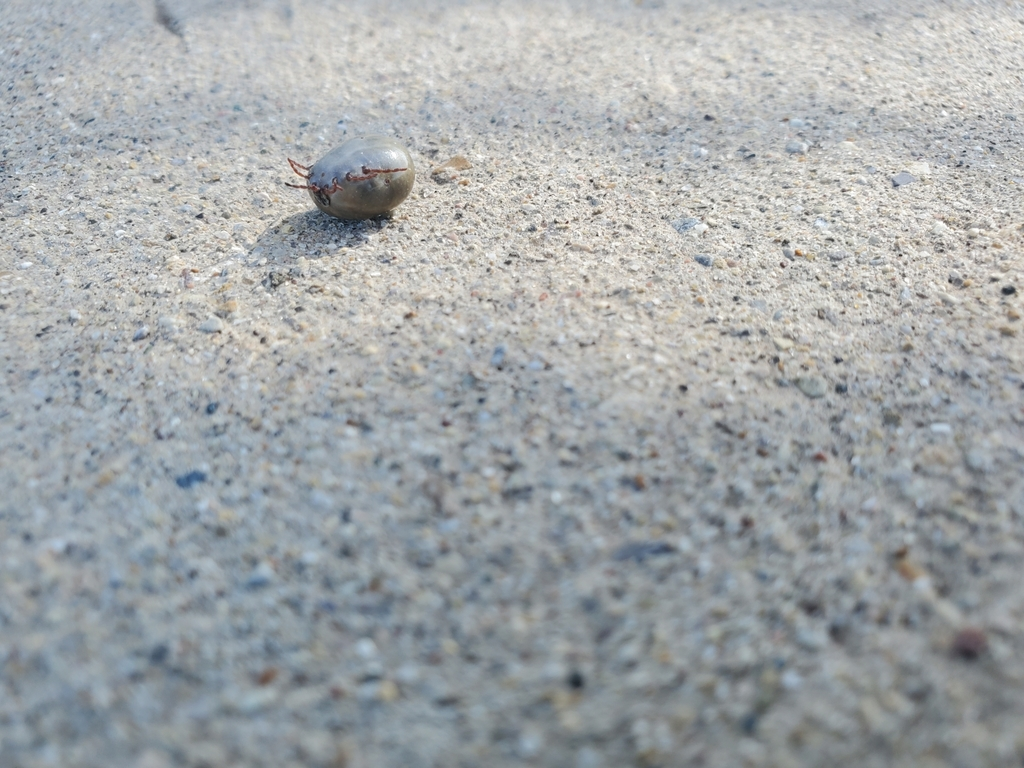garrapata: (269, 124, 447, 239)
